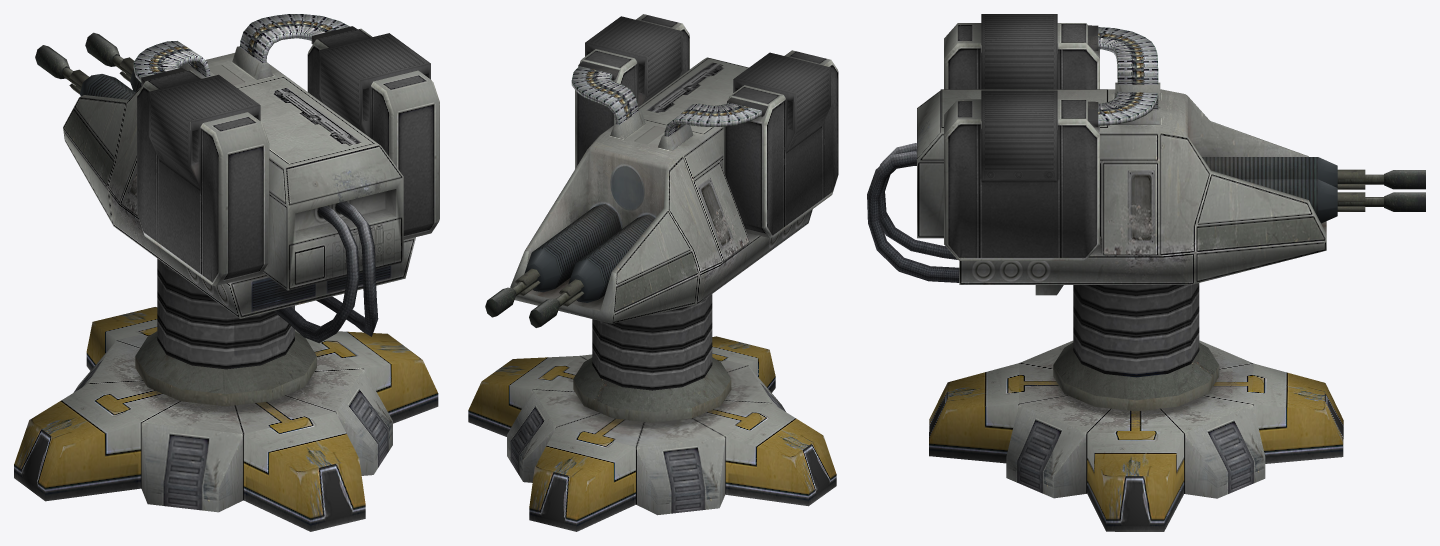
Rendered from Gun_LV2.FBX.
3 renders of one model, left to right at view 1: azimuth 30°, elevation 25°; view 2: azimuth 150°, elevation 25°; view 3: azimuth 270°, elevation 25°, orthographic. The views are drawn at different scales.
Parts seen in each view (by area): view 1: Core_orient, Base; view 2: Core_orient, Base; view 3: Core_orient, Base.
Part boxes in pixels (left/top/right/bottom): Core_orient: left=35, top=14, right=439, bottom=343; Base: left=14, top=258, right=438, bottom=531; Core_orient: left=485, top=14, right=838, bottom=327; Base: left=468, top=294, right=836, bottom=531; Core_orient: left=867, top=14, right=1425, bottom=295; Base: left=929, top=283, right=1343, bottom=531.
Bounding box in the file's own units: 5.36 × 5.37 × 7.22.
Materials: 1 (1 with a texture image).
